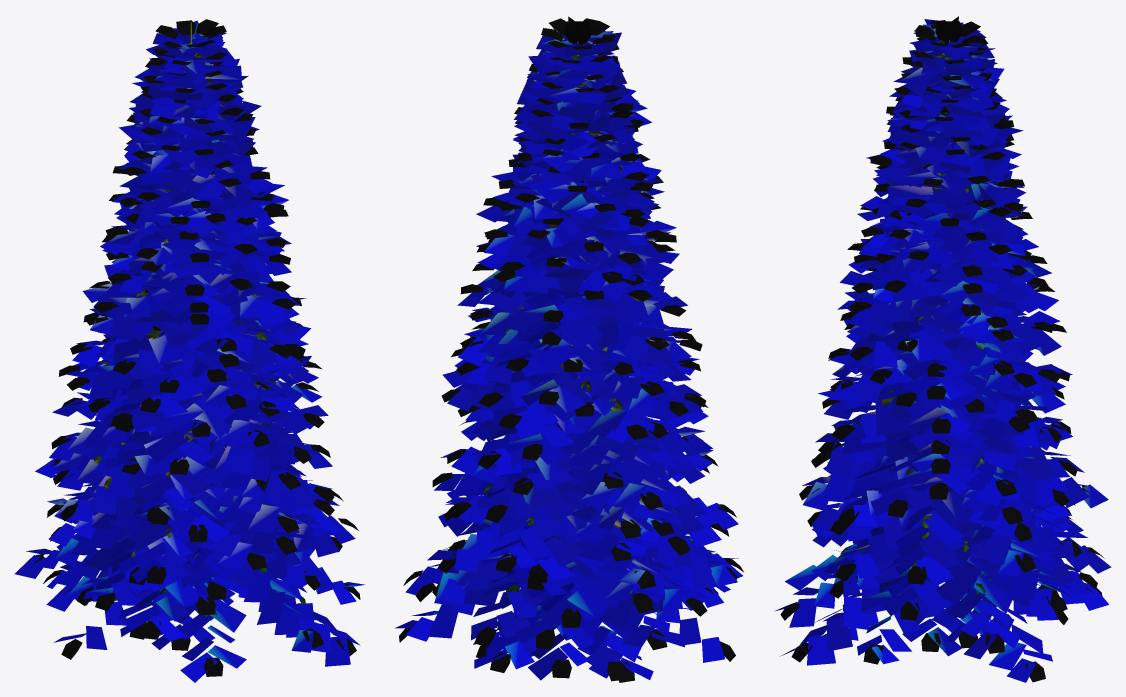
Rendered from tree_spruce_7.glb.
3 renders of one model, left to right at view 1: azimuth 30°, elevation 25°; view 2: azimuth 150°, elevation 25°; view 3: azimuth 270°, elevation 25°, orthographic. The views are drawn at different scales.
Visible parts, largest first — view 1: lod1_spruce_7; view 2: lod1_spruce_7; view 3: lod1_spruce_7.
Part boxes in pixels (bbox=[...]): lod1_spruce_7: bbox=[14, 19, 364, 682]; lod1_spruce_7: bbox=[395, 16, 743, 682]; lod1_spruce_7: bbox=[774, 16, 1111, 682].
Size of the model in its own units: 8.48 by 16.56 by 8.41.
